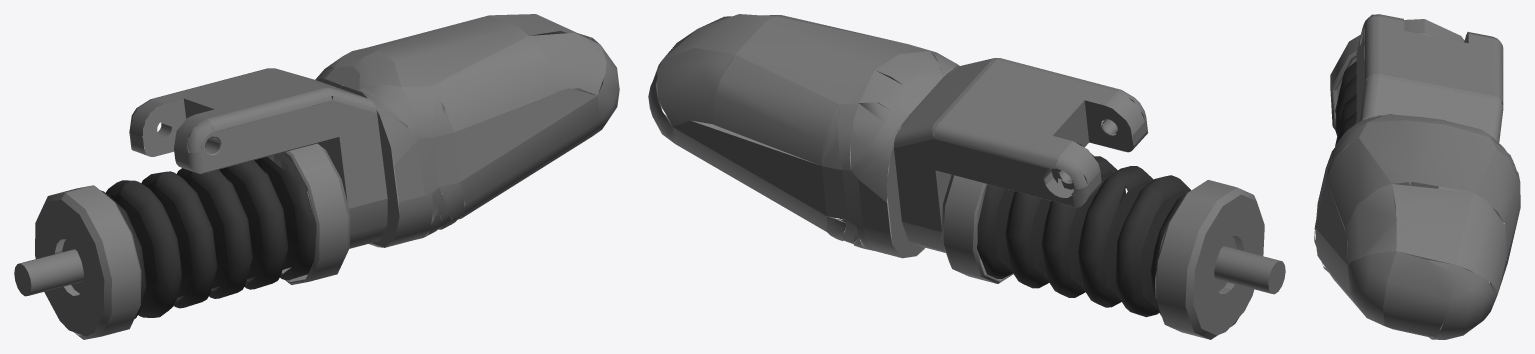
File: handl_finger_ring2_joint.obj
3 views of the same model, side by side, from view 1: azimuth 30°, elevation 25°; view 2: azimuth 150°, elevation 25°; view 3: azimuth 270°, elevation 25° (orthographic). The views are drawn at different scales.
Bounding box in the file's own units: 0.06 × 0.0193 × 0.0175.
Materials: 1 (1 with a texture image).
